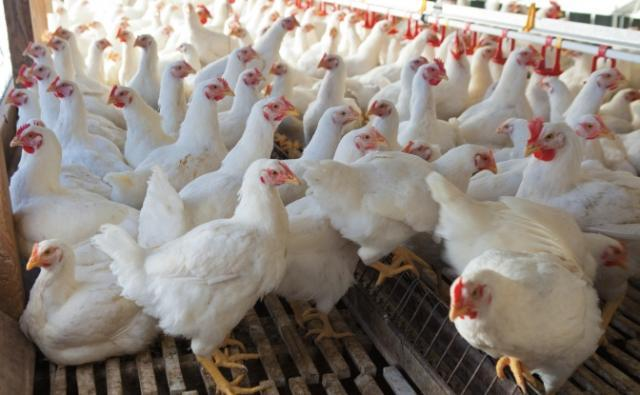Healthy: (104, 155, 305, 395), (440, 247, 611, 386), (5, 118, 130, 233)
